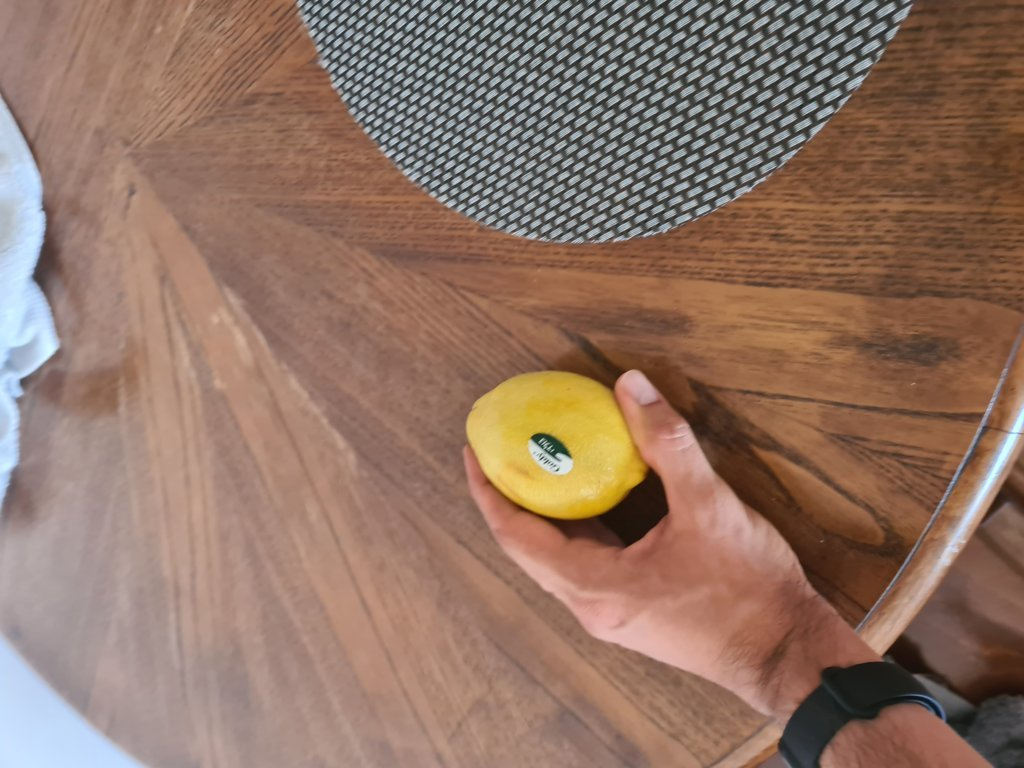lemon: (467, 374, 655, 519)
